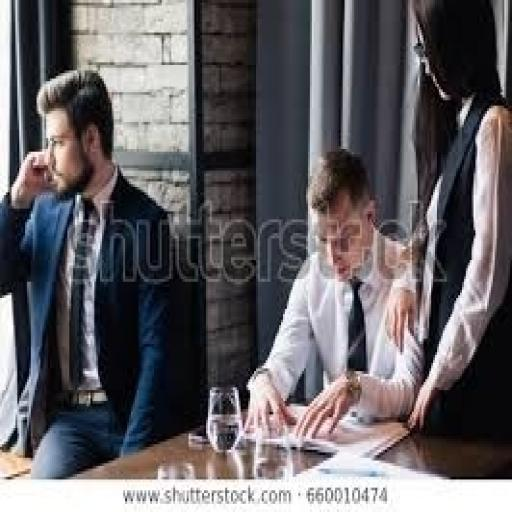calling: (291, 0, 510, 450), (0, 65, 177, 480), (240, 146, 426, 442)
